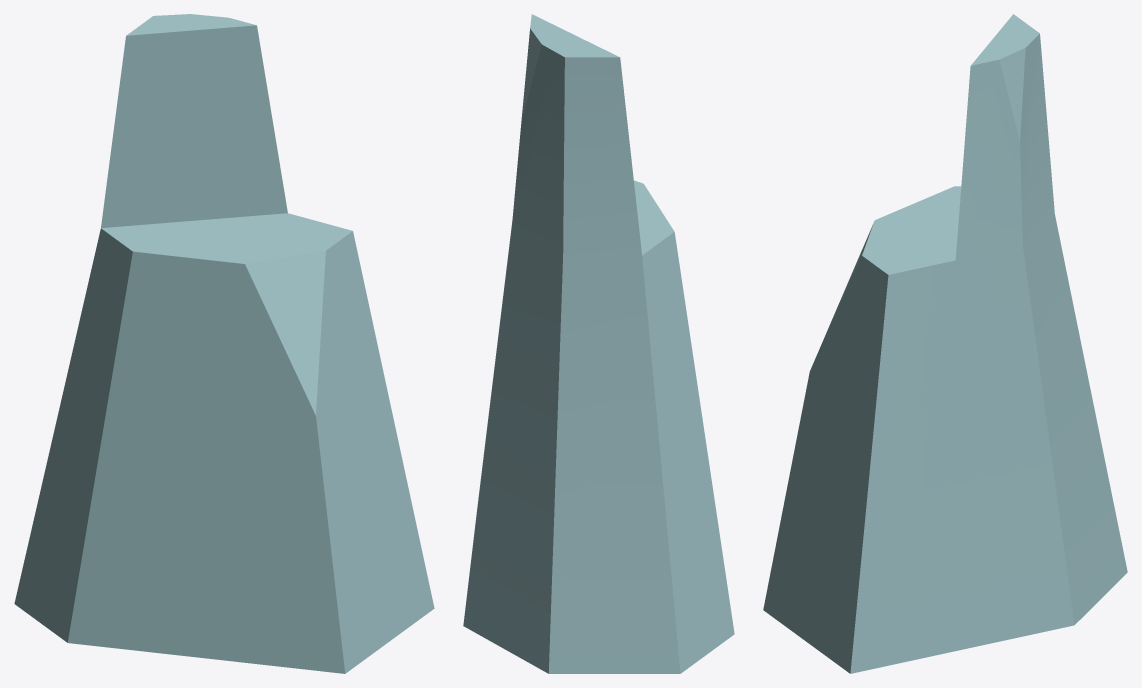
Rendered from stone_tall4.fbx.
3 renders of one model, left to right at view 1: azimuth 30°, elevation 25°; view 2: azimuth 150°, elevation 25°; view 3: azimuth 270°, elevation 25°, orthographic. The views are drawn at different scales.
Visible parts, largest first — view 1: stone_tall4; view 2: stone_tall4; view 3: stone_tall4.
Part boxes in pixels (x1,y1,x2,y2): stone_tall4: [14, 14, 434, 673]; stone_tall4: [463, 14, 734, 673]; stone_tall4: [763, 14, 1127, 673].
Bounding box in the file's own units: 4.43 × 7.72 × 4.61.
